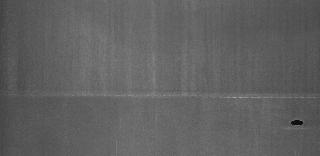punching hole: (290, 118, 308, 128)
welding line: (3, 89, 320, 105)
